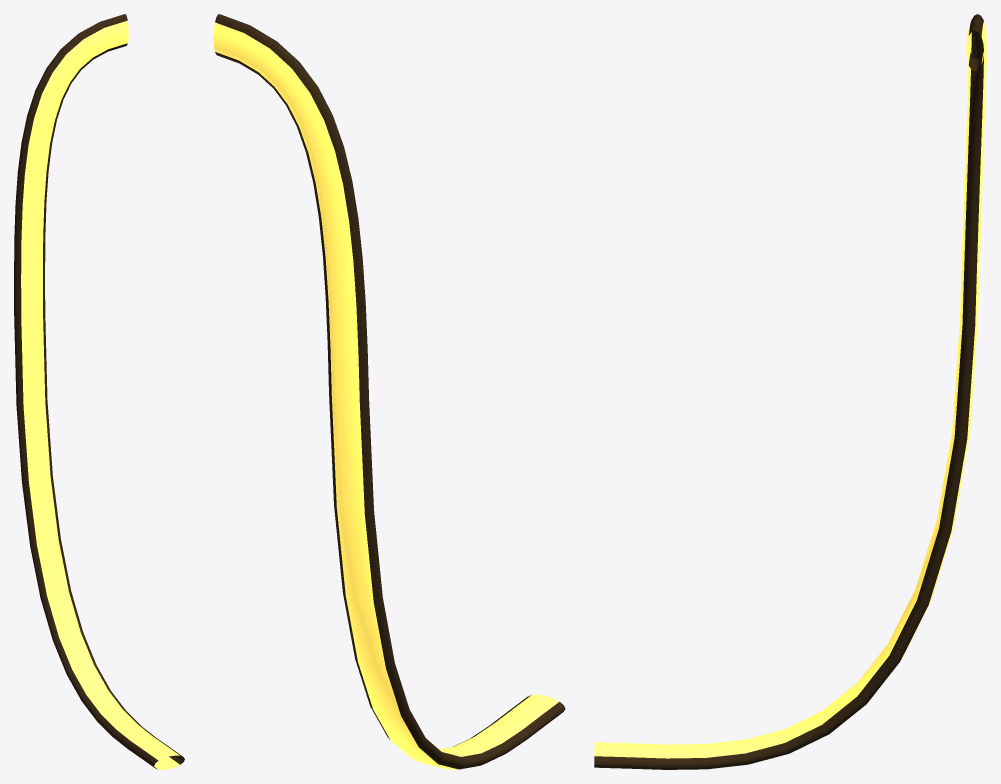
File: wire.fbx
3 renders of one model, left to right at view 1: azimuth 30°, elevation 25°; view 2: azimuth 150°, elevation 25°; view 3: azimuth 270°, elevation 25°, orthographic. The views are drawn at different scales.
Parts seen in each view (by area): view 1: wire; view 2: wire; view 3: wire.
Part boxes in pixels (x1=…): wire: x1=14, y1=14, x2=184, y2=769; wire: x1=213, y1=14, x2=565, y2=769; wire: x1=594, y1=14, x2=986, y2=769.
Size of the model in its own units: 67.08 by 333 by 148.
